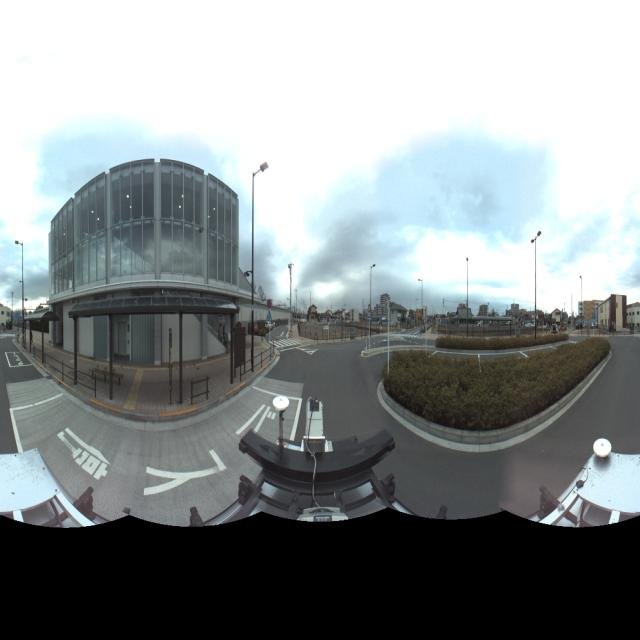b_1: (44, 158, 242, 364), (377, 288, 410, 336), (597, 287, 626, 335), (578, 293, 599, 332), (627, 296, 640, 332), (415, 304, 430, 328)
